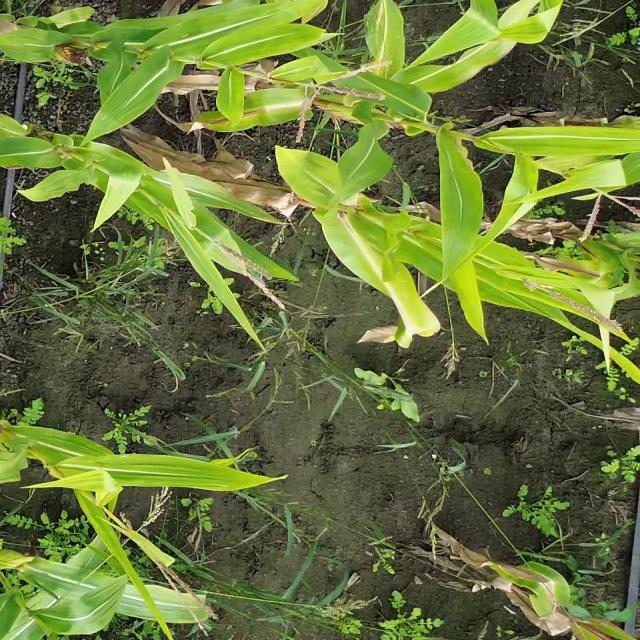northern-leaf-blight: (338, 214, 390, 282), (220, 94, 312, 126), (511, 562, 571, 608), (540, 255, 612, 280)
southern-leaf-blight: (83, 455, 143, 474)
